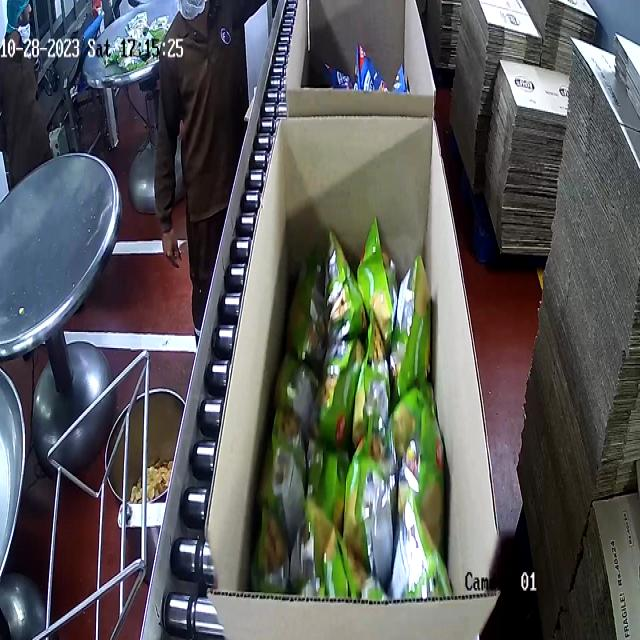PAPRIKA: (312, 44, 408, 91)
